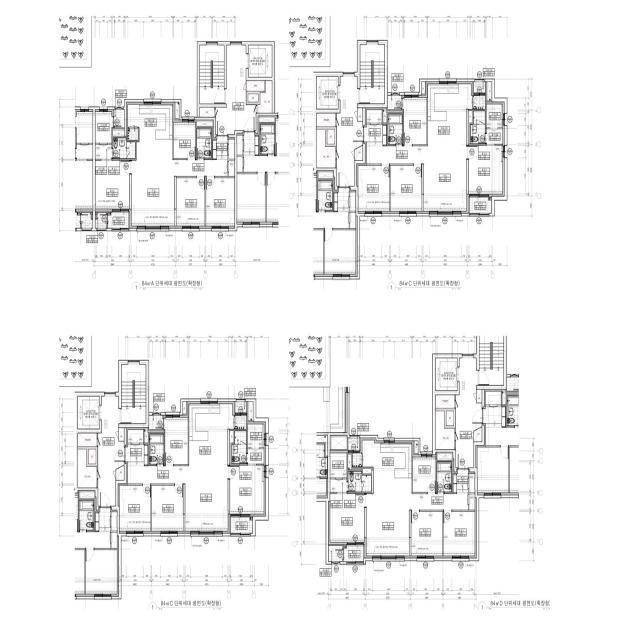space_balconi: (231, 518, 253, 533), (344, 546, 364, 562), (470, 198, 491, 213), (108, 213, 129, 228)
space_bedroom: (95, 161, 130, 209), (230, 465, 264, 514), (468, 145, 502, 194), (330, 494, 364, 542), (119, 485, 151, 531), (358, 166, 390, 211), (443, 512, 475, 556), (152, 486, 183, 531), (391, 166, 422, 211), (176, 178, 205, 226), (411, 512, 442, 556), (206, 178, 234, 226), (404, 98, 427, 144), (165, 418, 188, 464), (413, 457, 436, 492), (174, 122, 196, 158)
space_dressroom: (95, 112, 112, 159), (330, 453, 347, 492), (248, 424, 264, 464), (487, 104, 503, 144)
space_elevator: (249, 45, 272, 77), (436, 358, 457, 391), (78, 397, 99, 429), (317, 77, 338, 109)
space_elevator_hall: (216, 45, 256, 134), (456, 358, 482, 468), (98, 397, 124, 506), (337, 77, 363, 186)
space_front: (213, 136, 235, 159), (125, 444, 148, 466), (364, 125, 387, 146), (453, 470, 468, 494)
space_kitchen: (428, 84, 473, 146), (189, 404, 234, 465), (362, 440, 412, 494), (128, 105, 173, 160)
space_living_room: (132, 160, 234, 226), (128, 466, 228, 531), (367, 147, 467, 211), (366, 494, 468, 556)
space_other: (78, 449, 97, 488), (436, 411, 455, 449), (317, 129, 335, 168), (258, 81, 272, 113), (78, 433, 97, 446), (436, 395, 455, 408), (317, 113, 335, 126), (348, 454, 362, 470), (329, 546, 343, 561), (149, 415, 163, 429), (128, 430, 143, 443), (367, 110, 382, 123), (331, 437, 347, 449), (246, 81, 265, 91), (114, 110, 124, 128), (388, 96, 401, 109), (235, 416, 246, 429), (474, 96, 485, 109), (468, 111, 472, 144), (230, 431, 234, 464), (200, 108, 214, 117), (352, 453, 361, 467), (446, 411, 454, 426), (474, 427, 482, 442), (469, 474, 475, 493), (116, 466, 124, 480), (327, 130, 335, 144), (355, 146, 363, 160), (128, 129, 138, 140), (89, 449, 96, 464), (469, 494, 475, 510), (438, 454, 452, 460), (248, 94, 258, 102), (488, 82, 492, 101), (249, 402, 253, 420), (119, 428, 124, 441), (477, 390, 482, 403), (358, 108, 363, 121), (197, 122, 212, 126), (144, 429, 148, 443), (383, 109, 387, 123), (113, 131, 124, 136), (414, 441, 418, 453), (363, 469, 372, 474), (183, 402, 186, 414), (422, 82, 425, 94)
space_outdoor_room: (95, 213, 107, 228), (348, 438, 359, 450), (235, 402, 246, 413), (474, 82, 485, 93)
space_staircase: (479, 327, 504, 385), (121, 365, 146, 423), (200, 45, 224, 104), (360, 45, 384, 103)
space_toilet: (232, 431, 246, 464), (471, 111, 485, 144), (348, 472, 371, 492), (437, 462, 452, 492), (149, 434, 164, 464), (113, 138, 135, 158), (197, 128, 211, 158), (388, 114, 402, 144)
